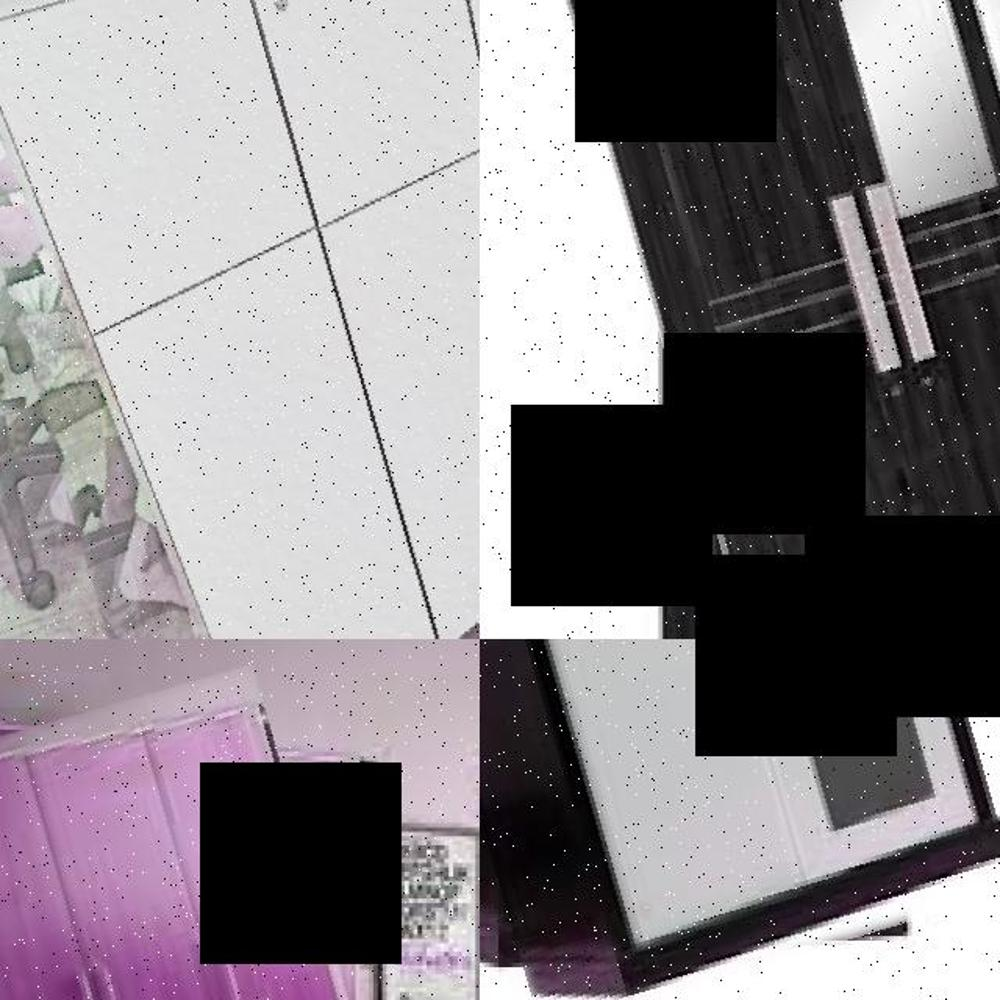cabinet: (0, 0, 480, 639), (602, 0, 1000, 639), (480, 639, 978, 1000), (0, 691, 411, 1000)
